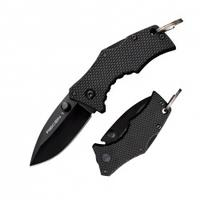knife: (26, 19, 155, 172)
